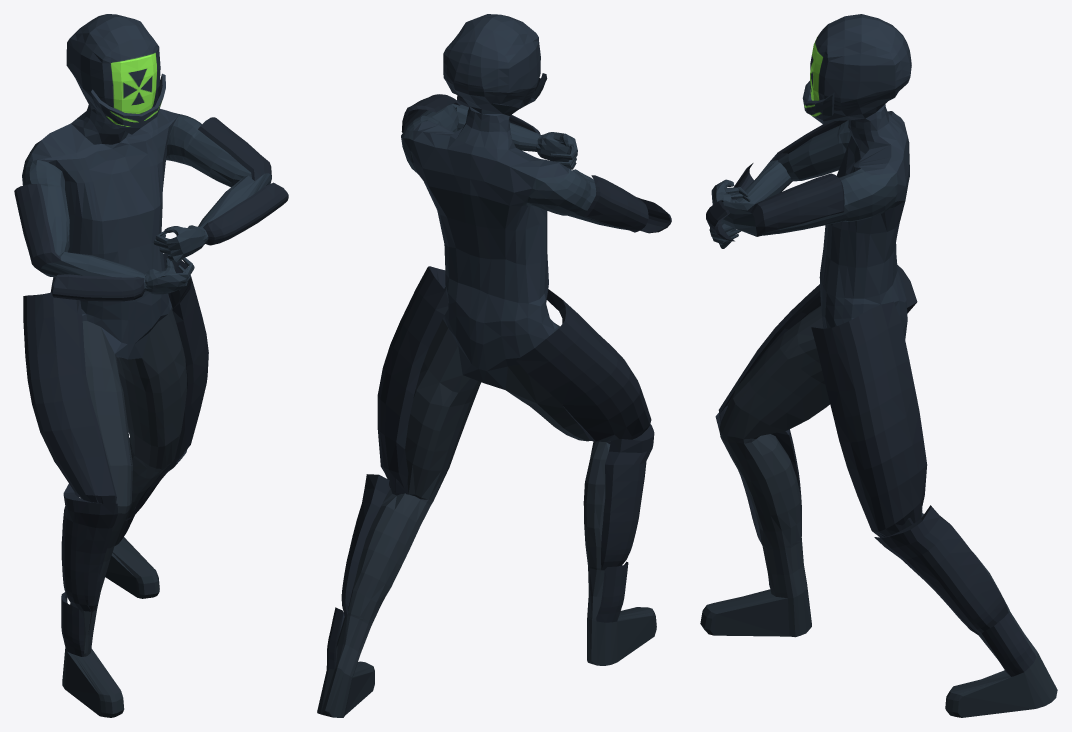
The model's file is Bastion_Hit_Recover_000015.obj.
3 renders of one model, left to right at view 1: azimuth 30°, elevation 25°; view 2: azimuth 150°, elevation 25°; view 3: azimuth 270°, elevation 25°, orthographic. The views are drawn at different scales.
Parts seen in each view (by area): view 1: Cube.002; view 2: Cube.002; view 3: Cube.002.
Part boxes in pixels (box(x1,y1,x2,y2)): Cube.002: box(14, 14, 288, 717); Cube.002: box(317, 14, 671, 717); Cube.002: box(700, 14, 1057, 717).
Size of the model in its own units: 1.36 by 3.62 by 1.79.
